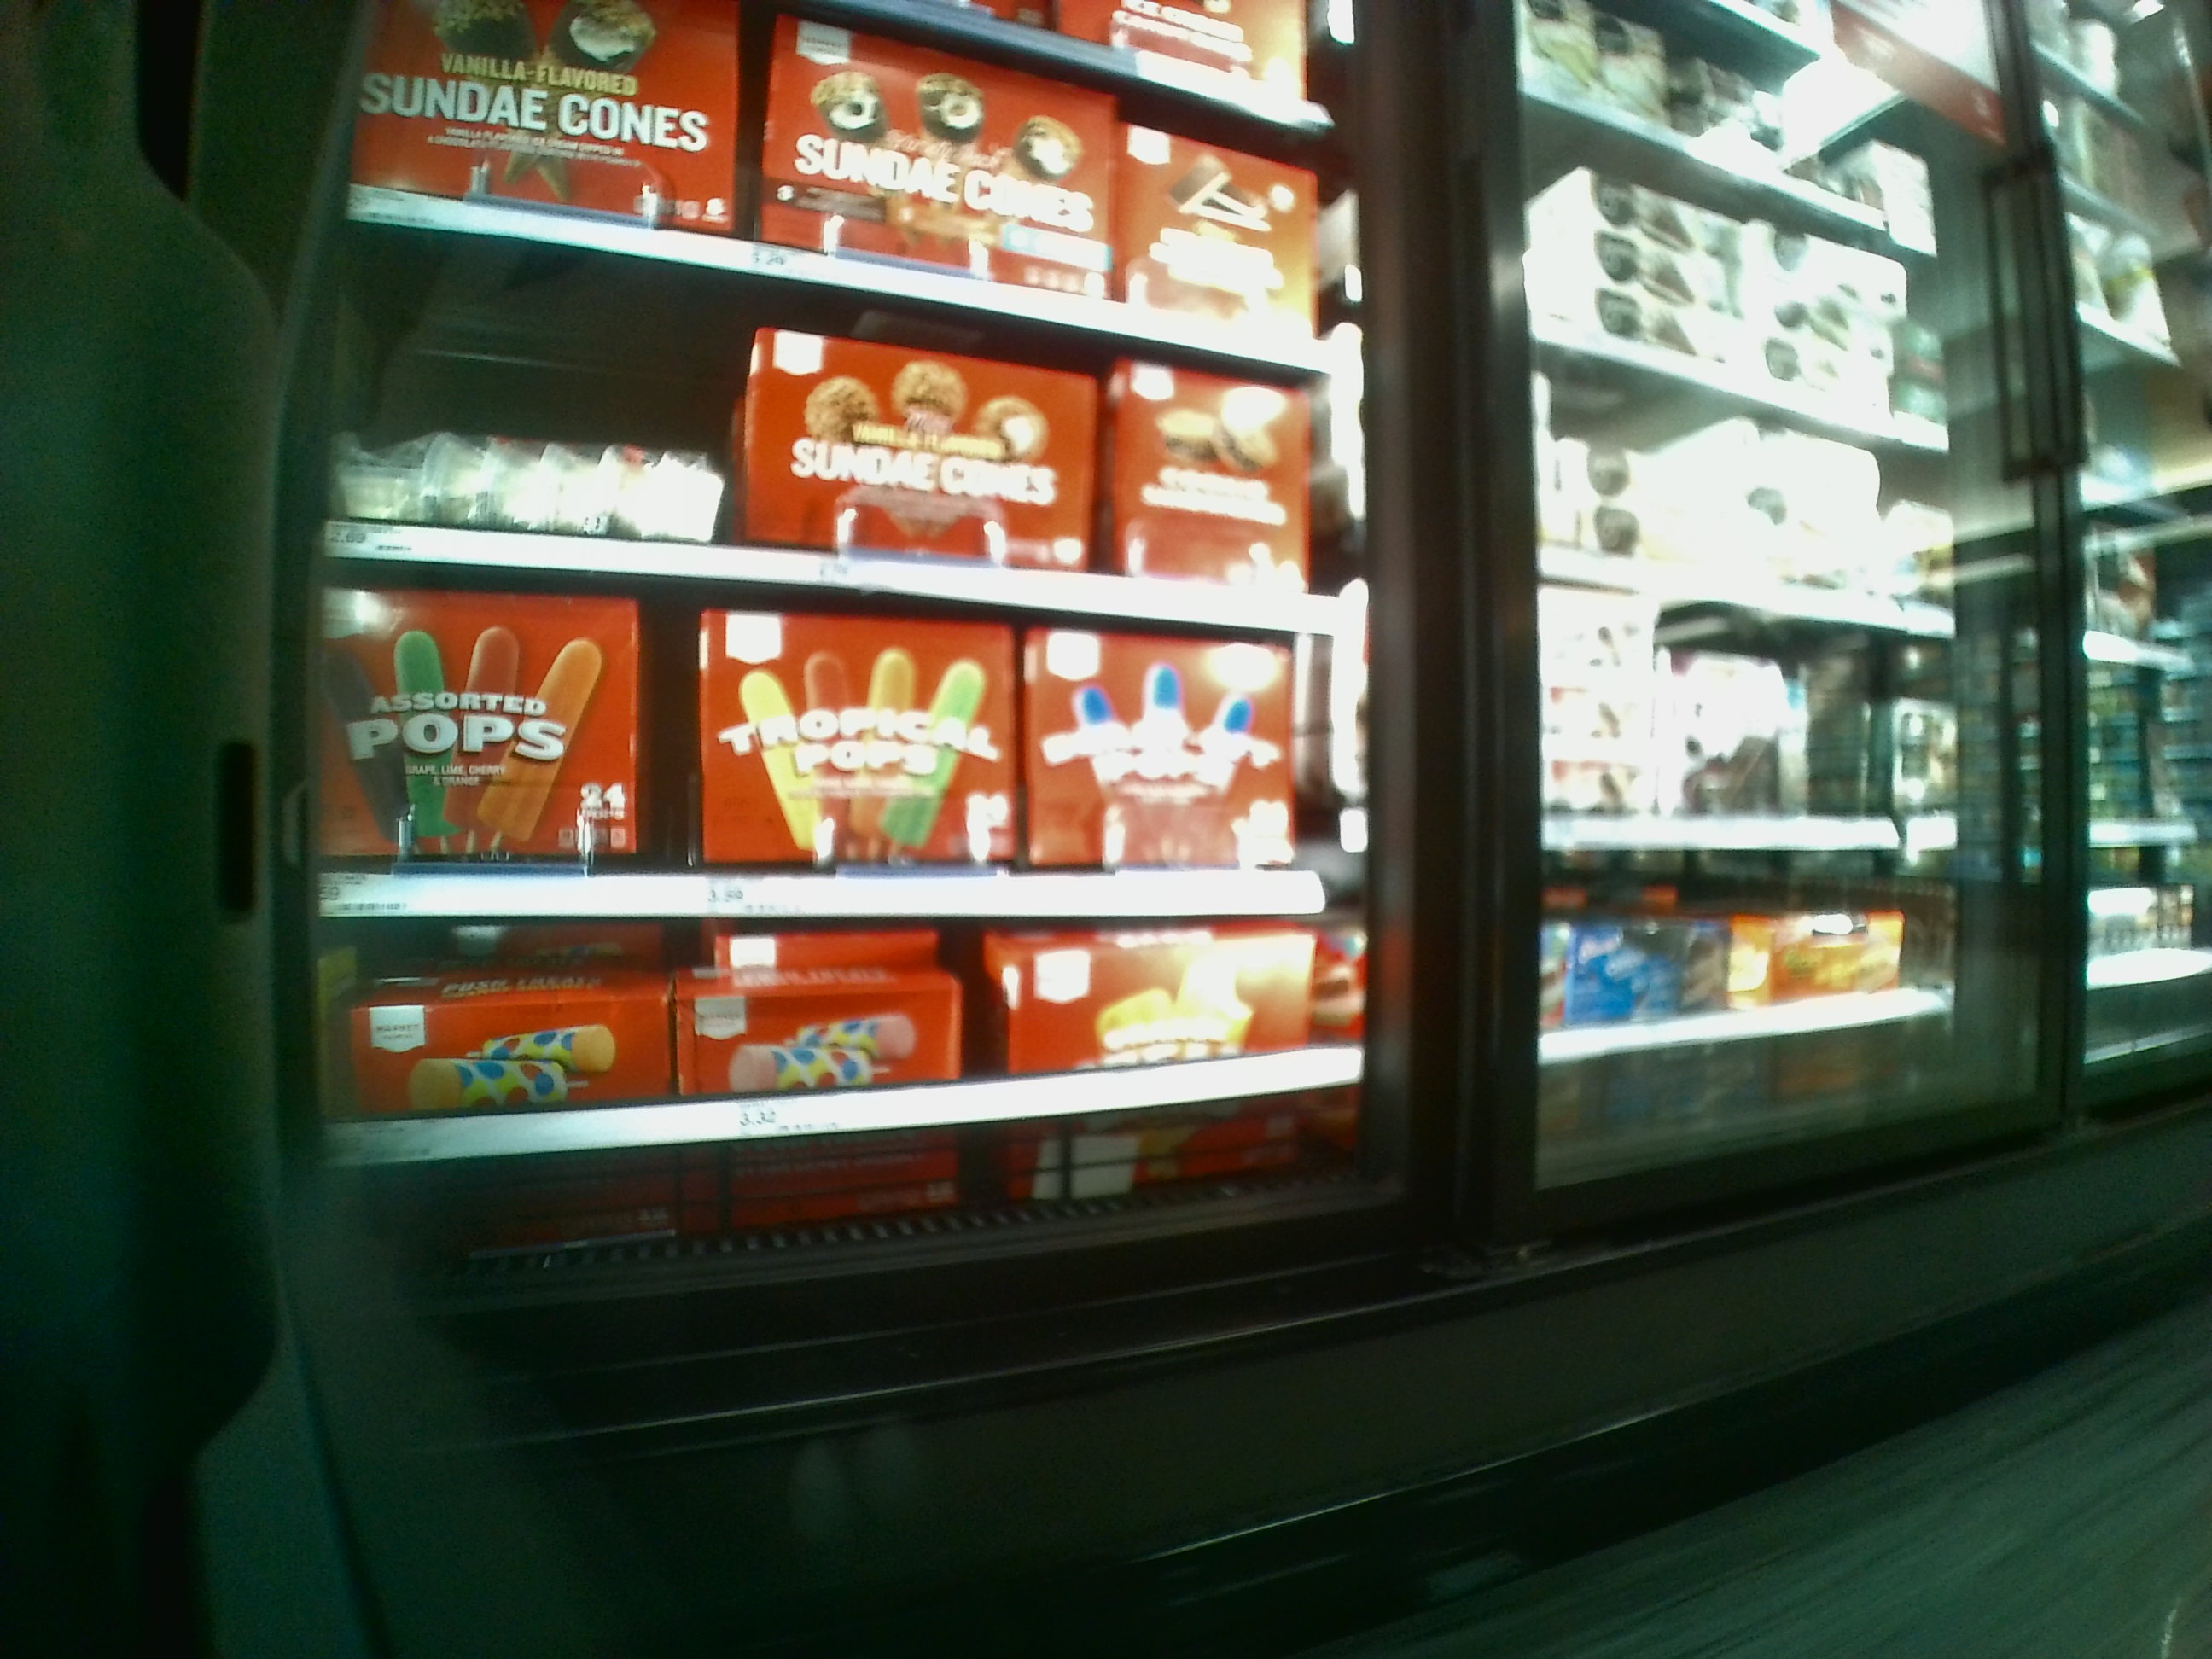shelf: (310, 579, 1334, 931), (341, 941, 1367, 1256), (338, 321, 1353, 606)
